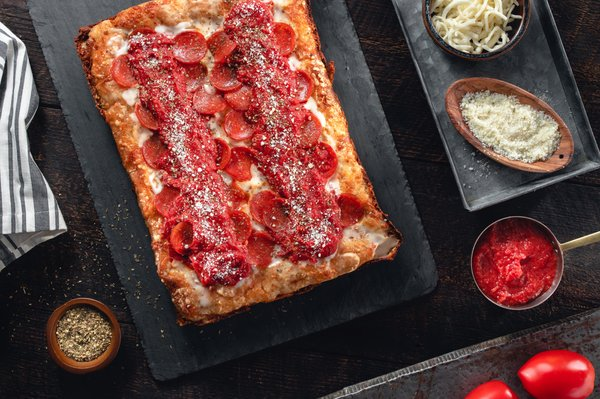steak: (516, 349, 597, 399)
sushi: (470, 215, 565, 311), (421, 0, 533, 60)
